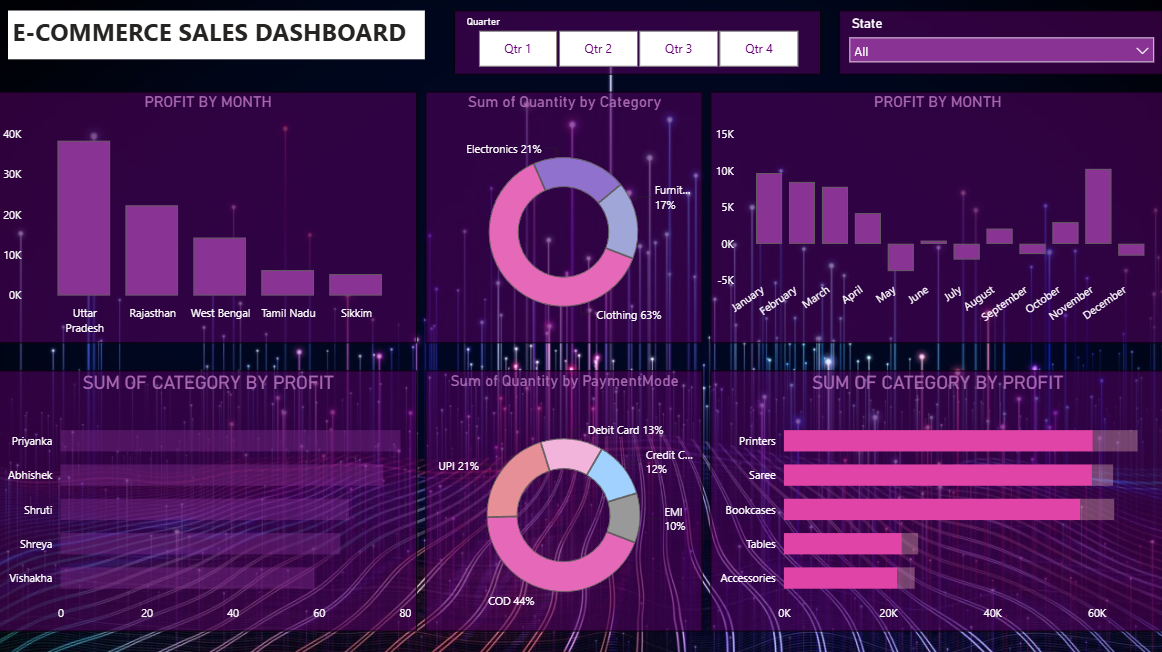

What the dashboard file says about the page in this screenshot:
{"tool":"powerbi","page":{"name":"Page 1","canvas":[1280,720],"ordinal":0},"visuals":[{"type":"textbox","box":[11.2,13.8,457.5,53.8],"z":0},{"type":"columnChart","title":"PROFIT BY MONTH ","fields":{"Category":["Orders.Order Date.Variation.Date Hierarchy.Month"],"Y":["Sum(Details.Profit)"]},"box":[782.5,102.5,497.5,276.2],"z":1000},{"type":"barChart","title":"SUM OF CATEGORY BY PROFIT ","fields":{"Category":["Details.Sub-Category"],"Y":["Sum(Details.Amount)","Sum(Details.Profit)"]},"box":[782.5,408.8,497.5,286.2],"z":2000},{"type":"donutChart","fields":{"Category":["Details.Category"],"Y":["Sum(Details.Quantity)"]},"box":[468.8,102.5,303.8,276.2],"z":3000},{"type":"donutChart","fields":{"Category":["Details.PaymentMode"],"Y":["Sum(Details.Quantity)"]},"box":[468.8,408.8,303.8,286.2],"z":4000},{"type":"columnChart","title":"PROFIT BY MONTH ","fields":{"Category":["Orders.State"],"Y":["Sum(Details.Amount)"]},"box":[0,102.9,459.7,275.8],"z":5000},{"type":"barChart","title":"SUM OF CATEGORY BY PROFIT ","fields":{"Category":["Orders.CustomerName"],"Y":["Sum(Details.Quantity)"]},"box":[0,408.8,460,286.2],"z":6000},{"type":"slicer","fields":{"Values":["Orders.Order Date.Variation.Date Hierarchy.Quarter"]},"box":[501.2,13.8,402.5,70],"z":6001},{"type":"slicer","fields":{"Values":["Orders.State"]},"box":[923.8,13.8,356.2,70],"z":6002}]}

Visuals, with their boxes in screenshot pixels (x1, y1, x2, y2), scaled from the page's 1280x720 canvas onto the 1162x652 screenshot:
textbox: locate(10, 12, 425, 61)
"PROFIT BY MONTH " columnChart: locate(710, 93, 1161, 343)
"SUM OF CATEGORY BY PROFIT " barChart: locate(710, 370, 1161, 629)
donutChart - Details.Category x Sum(Details.Quantity): locate(426, 93, 701, 343)
donutChart - Details.PaymentMode x Sum(Details.Quantity): locate(426, 370, 701, 629)
"PROFIT BY MONTH " columnChart: locate(0, 93, 417, 343)
"SUM OF CATEGORY BY PROFIT " barChart: locate(0, 370, 418, 629)
slicer - Orders.Order Date.Variation.Date Hierarchy.Quarter: locate(455, 12, 820, 76)
slicer - Orders.State: locate(839, 12, 1161, 76)
